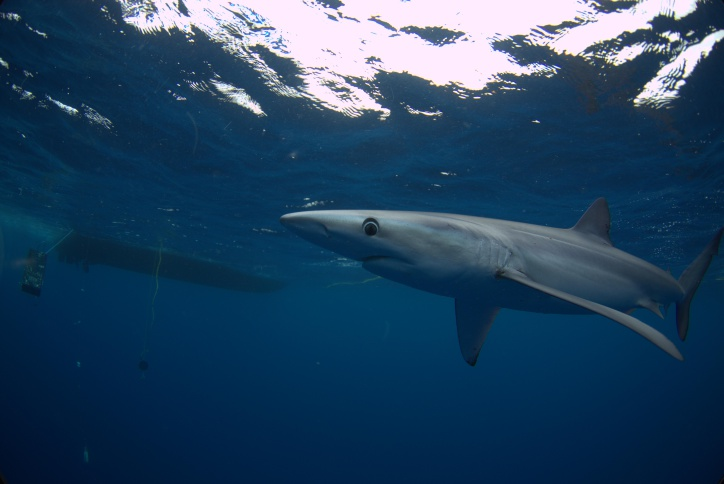Azul: (27, 142, 446, 277)
